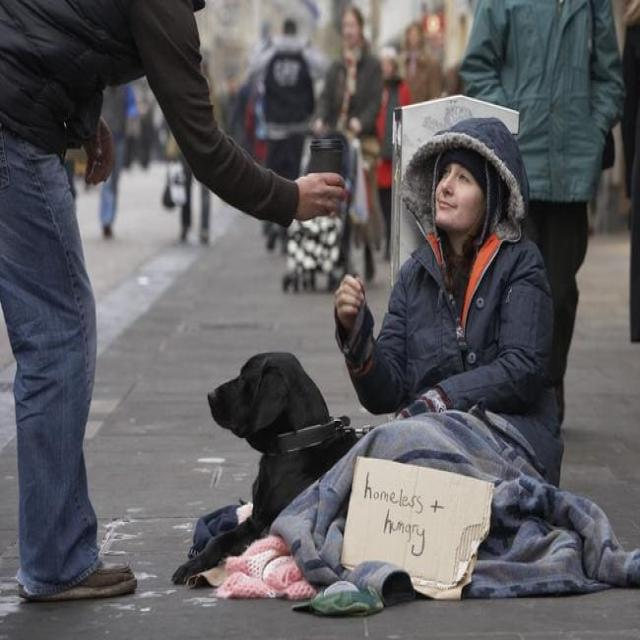loitering: (320, 114, 564, 590)
